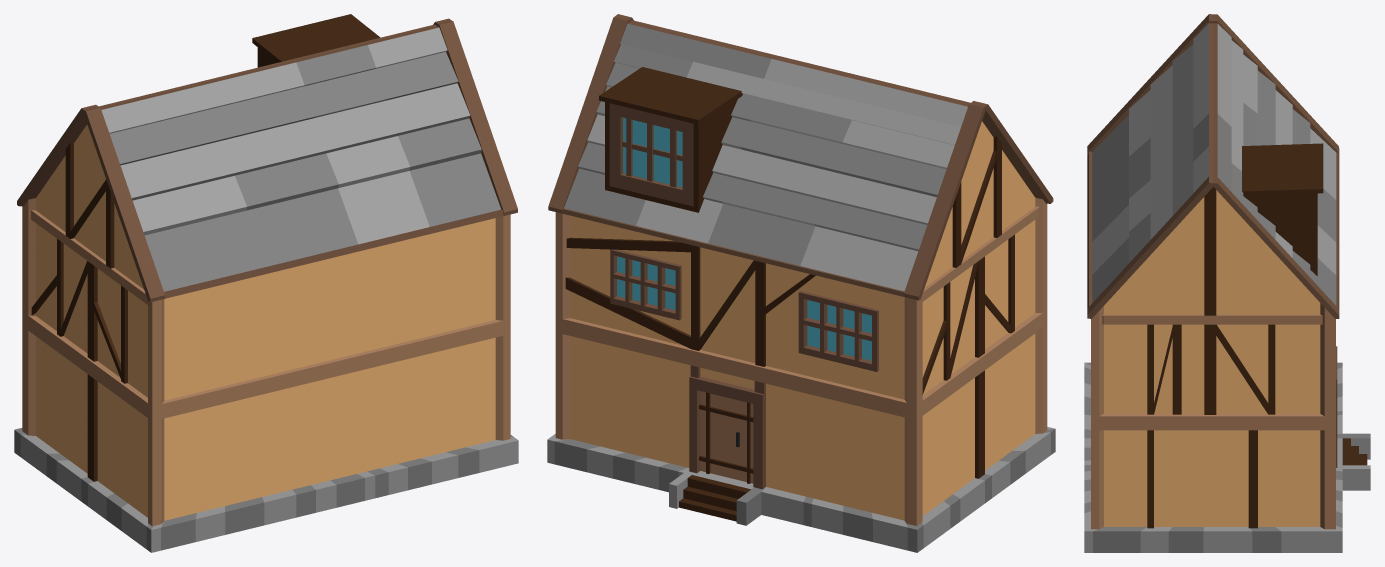
The model's file is Huis Design 3.fbx.
3 views of the same model, side by side, from view 1: azimuth 30°, elevation 25°; view 2: azimuth 150°, elevation 25°; view 3: azimuth 270°, elevation 25° (orthographic). The views are drawn at different scales.
Parts seen in each view (by area): view 1: Huis Design 3; view 2: Huis Design 3; view 3: Huis Design 3.
Boxes of the visible parts, x1=… form: Huis Design 3: x1=14, y1=14, x2=518, y2=552; Huis Design 3: x1=547, y1=14, x2=1055, y2=552; Huis Design 3: x1=1084, y1=14, x2=1370, y2=552.
Bounding box in the file's own units: 912 × 930 × 652.
